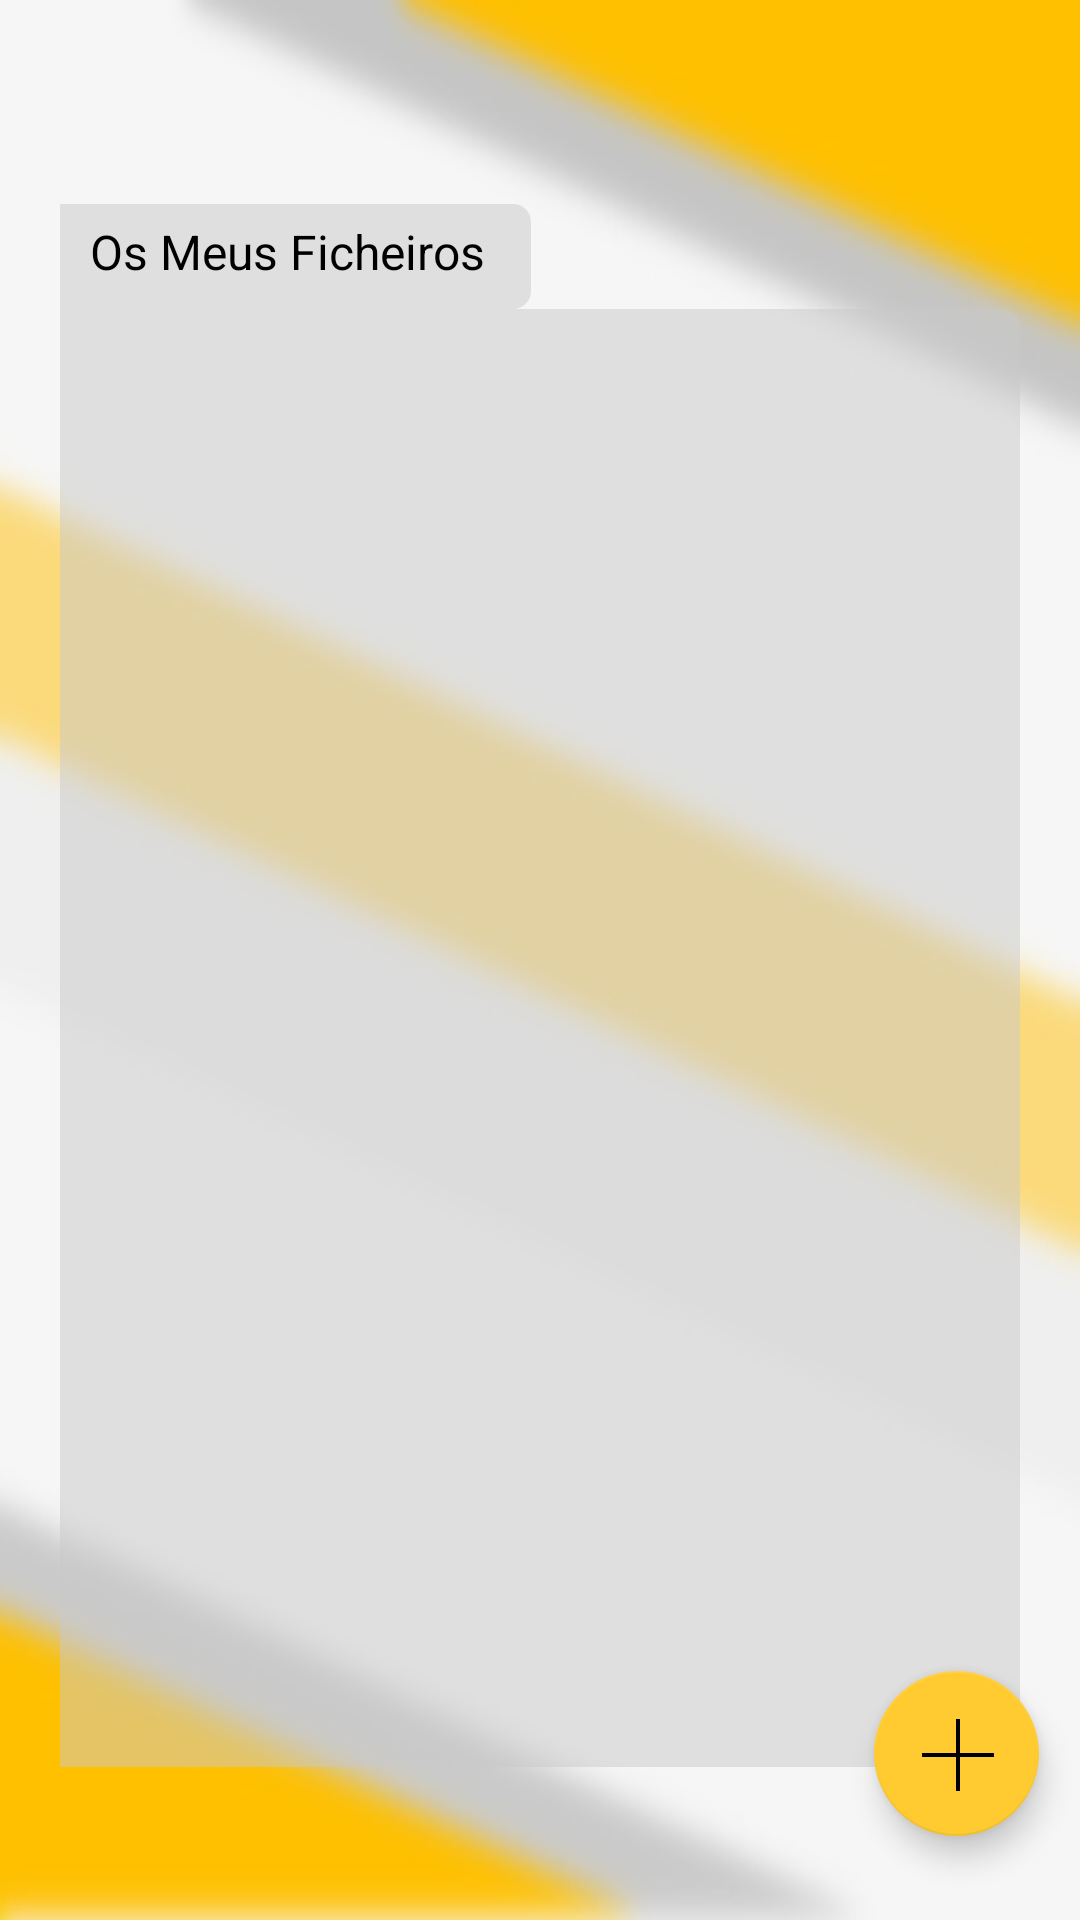

Point at icon controls on the screen. Image size 1080x1920, points as [x,y].
plus: [956,1753]
